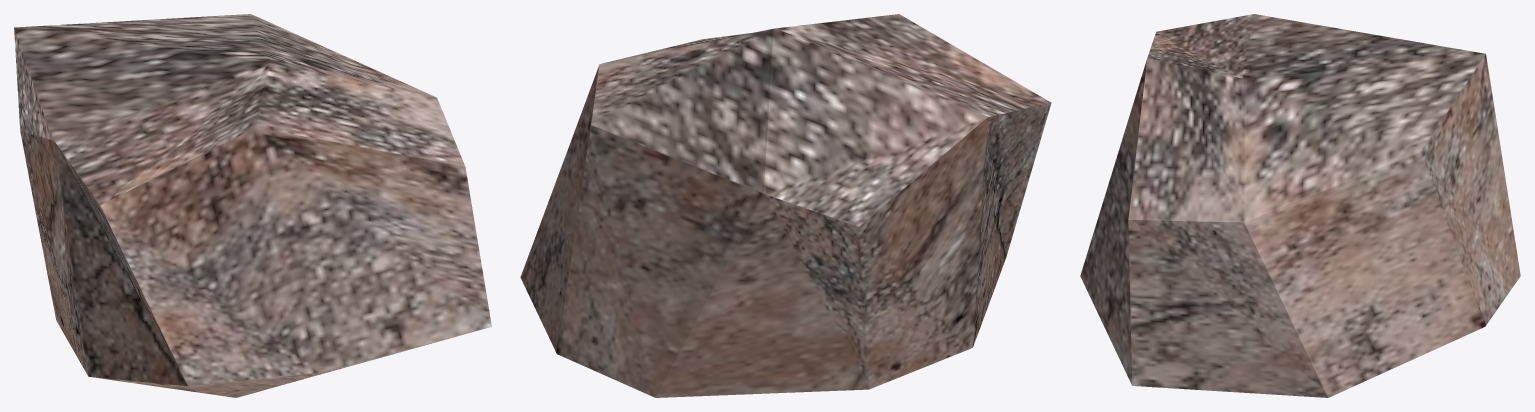
File: bigRock.gltf
3 views of the same model, side by side, from view 1: azimuth 30°, elevation 25°; view 2: azimuth 150°, elevation 25°; view 3: azimuth 270°, elevation 25° (orthographic). The views are drawn at different scales.
Parts seen in each view (by area): view 1: Rock; view 2: Rock; view 3: Rock.
Boxes of the visible parts, <box> form: Rock: <box>14,14,491,397</box>; Rock: <box>520,14,1051,397</box>; Rock: <box>1080,14,1520,397</box>.
Size of the model in its own units: 1.74 by 1.29 by 1.75.
Materials: 1 (1 with a texture image).
